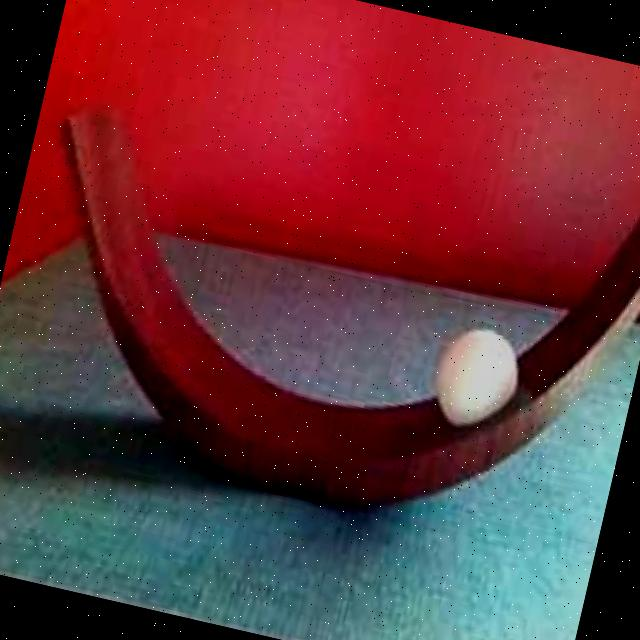ping-pong-ball: (425, 321, 527, 442)
